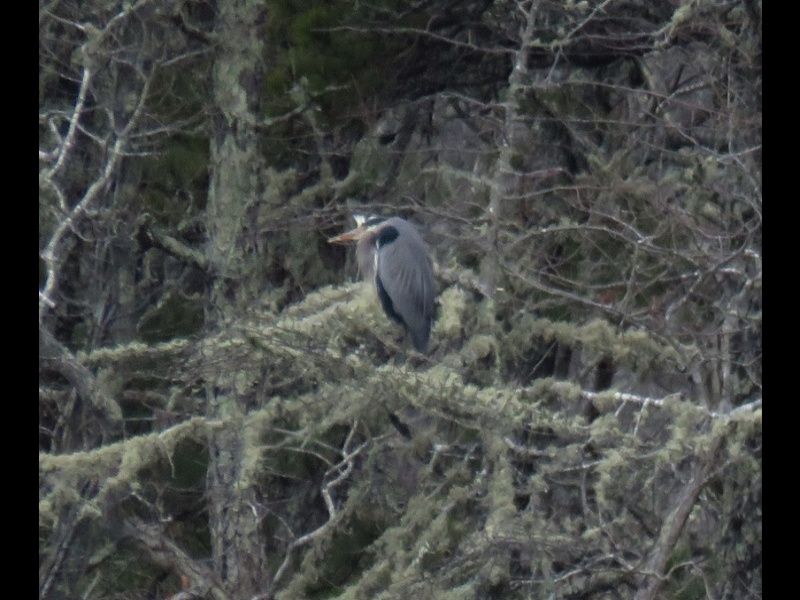heron: (328, 209, 443, 361)
